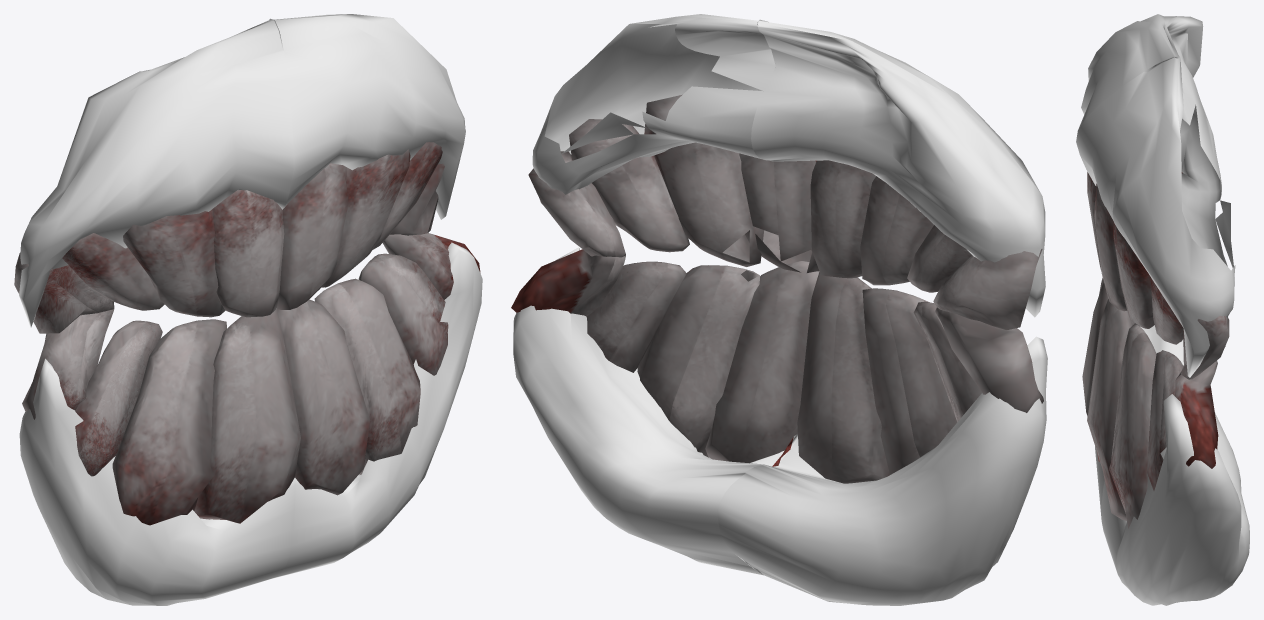
Rendered from Teef.dae.
The picture shows the model from 3 angles, left to right: view 1: azimuth 30°, elevation 25°; view 2: azimuth 150°, elevation 25°; view 3: azimuth 270°, elevation 25°; orthographic projection. The views are drawn at different scales.
Visible parts, largest first — view 1: LowerTeeth, UpperGums, LowerGums, UpperTeeth; view 2: LowerGums, LowerTeeth, UpperGums, UpperTeeth; view 3: UpperGums, LowerGums, LowerTeeth, UpperTeeth.
Boxes of the visible parts, x1,y1,x2,y2 form: LowerTeeth: [22, 233, 480, 525]; UpperGums: [19, 14, 465, 327]; LowerGums: [19, 242, 482, 605]; UpperTeeth: [14, 142, 444, 333]; LowerGums: [513, 247, 1047, 605]; LowerTeeth: [511, 249, 1043, 483]; UpperGums: [532, 14, 1045, 317]; UpperTeeth: [528, 94, 1042, 329]; UpperGums: [1076, 14, 1235, 377]; LowerGums: [1095, 325, 1249, 605]; LowerTeeth: [1082, 278, 1218, 528]; UpperTeeth: [1087, 172, 1229, 379].
Size of the model in its own units: 0.395 by 0.1276 by 0.4241.
2 materials, 1 textured.
